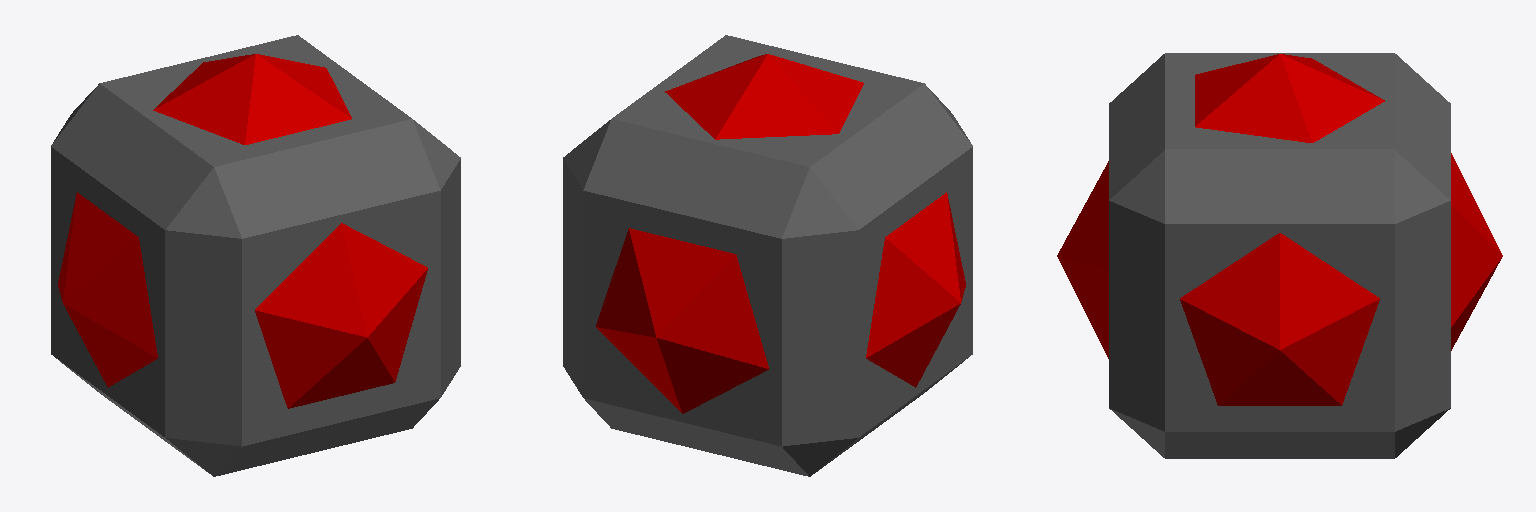
The model's file is spice_enemy.obj.
3 views of the same model, side by side, from view 1: azimuth 30°, elevation 25°; view 2: azimuth 150°, elevation 25°; view 3: azimuth 270°, elevation 25° (orthographic).
Visible parts, largest first — view 1: Cube, Cone.002; view 2: Cube, Cone.002; view 3: Cube, Cone.002.
Part boxes in pixels (bbox=[...]): Cube: bbox=[51, 35, 460, 476]; Cone.002: bbox=[58, 54, 427, 408]; Cube: bbox=[563, 35, 972, 476]; Cone.002: bbox=[596, 54, 965, 413]; Cube: bbox=[1109, 53, 1450, 458]; Cone.002: bbox=[1057, 54, 1502, 405].
Size of the model in its own units: 2.27 by 2.27 by 2.27.